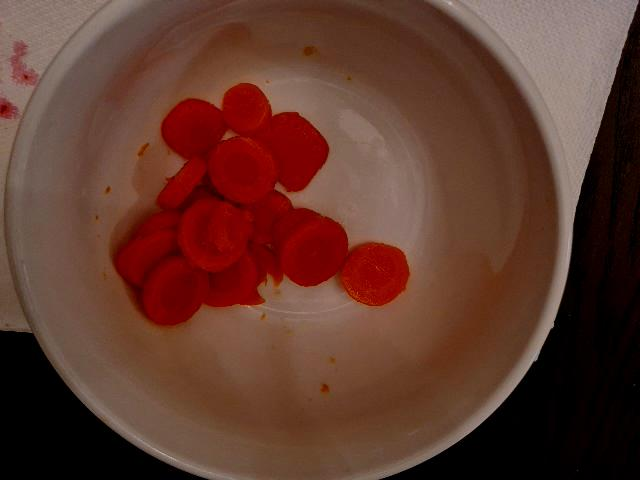kichen waste: (116, 82, 409, 325)
